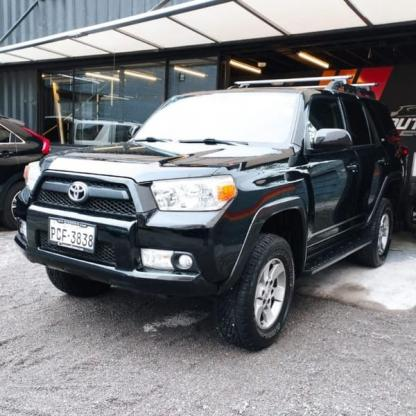Placa: (46, 214, 100, 252)
